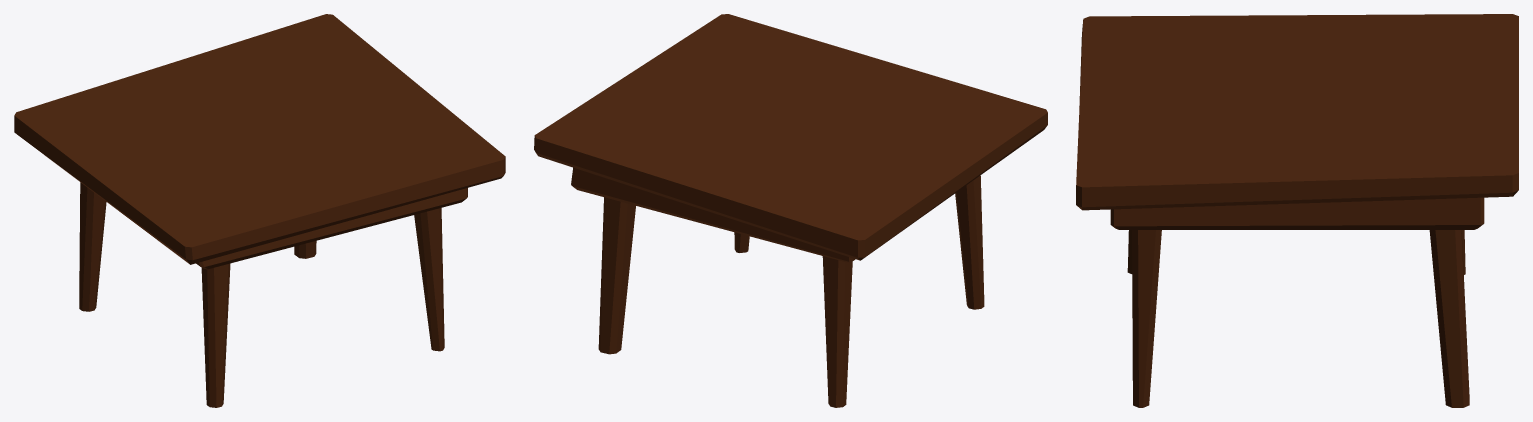
The model's file is Table1 (1).fbx.
The picture shows the model from 3 angles, left to right: view 1: azimuth 30°, elevation 25°; view 2: azimuth 150°, elevation 25°; view 3: azimuth 270°, elevation 25°; orthographic projection. The views are drawn at different scales.
Visible parts, largest first — view 1: Cube.001; view 2: Cube.001; view 3: Cube.001.
Part boxes in pixels (bbox=[...]): Cube.001: bbox=[14, 14, 505, 407]; Cube.001: bbox=[534, 14, 1047, 407]; Cube.001: bbox=[1076, 14, 1518, 407].
Bounding box in the file's own units: 205 × 128 × 200.
